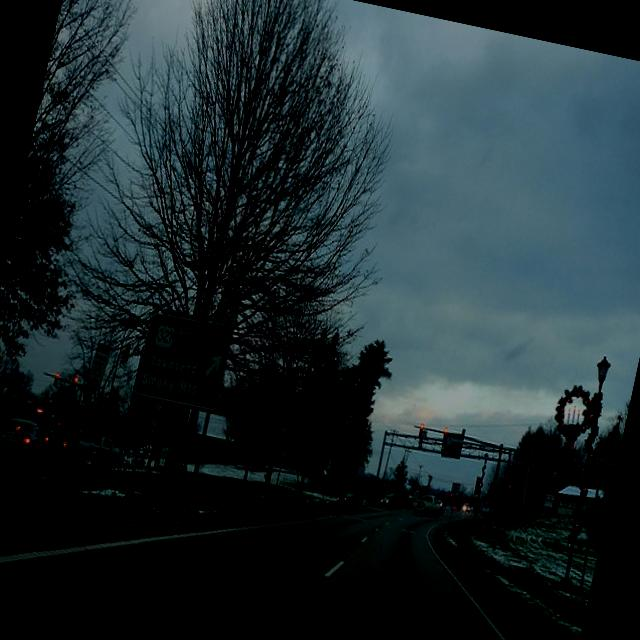Vehicle: (13, 404, 63, 464), (0, 412, 48, 473), (75, 429, 121, 466), (48, 423, 72, 464), (0, 388, 11, 472), (409, 492, 442, 520), (65, 436, 97, 462), (378, 490, 401, 512), (344, 489, 364, 508), (124, 445, 138, 465), (462, 502, 471, 512), (137, 447, 144, 458), (449, 504, 457, 511)
